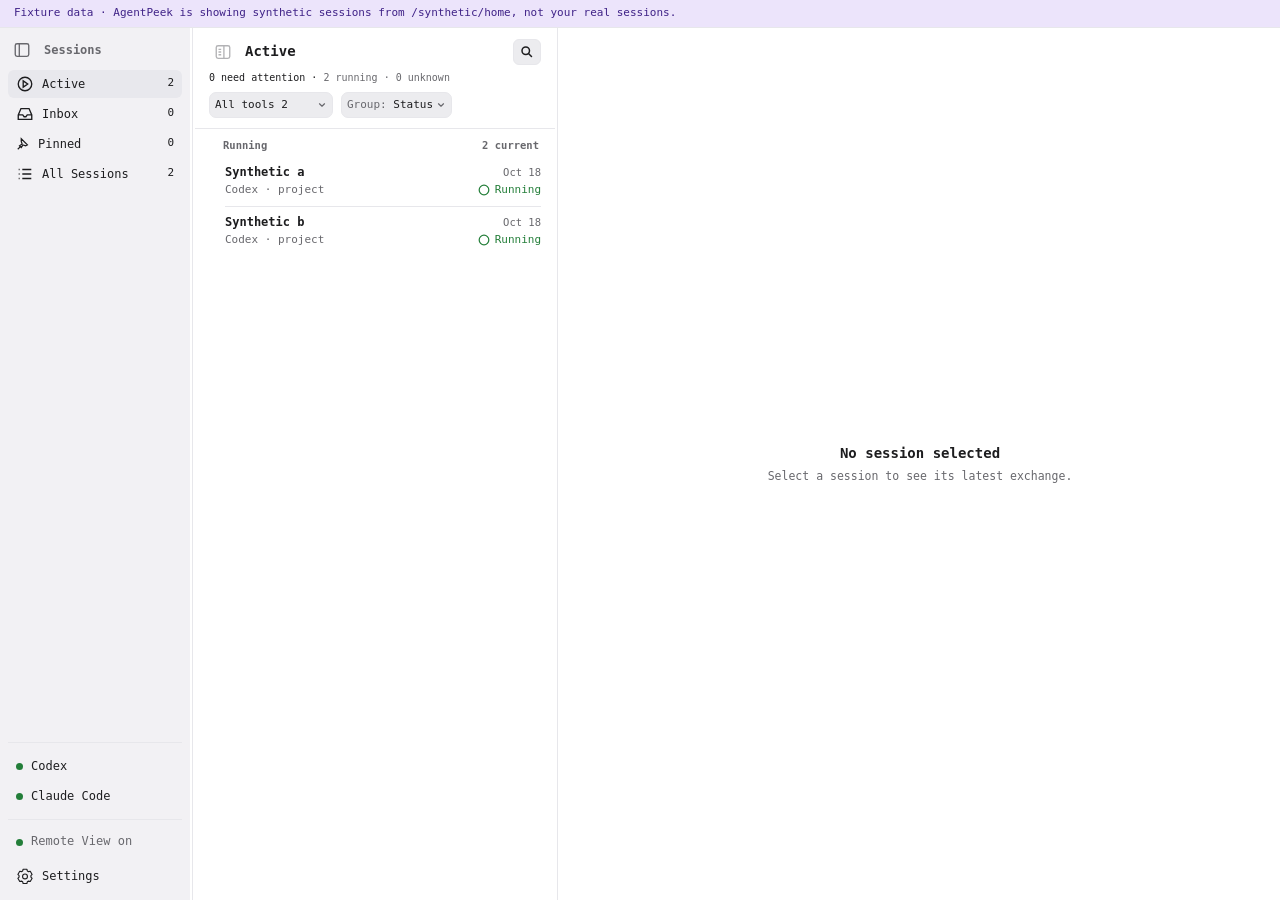
Remote View alias in the session detail › shows nothing for a session the main process does not share
Click the option "Synthetic a Oct 18 Codex · project Running".
click(265, 172)  # box x1=201 y1=156 x2=549 y2=206
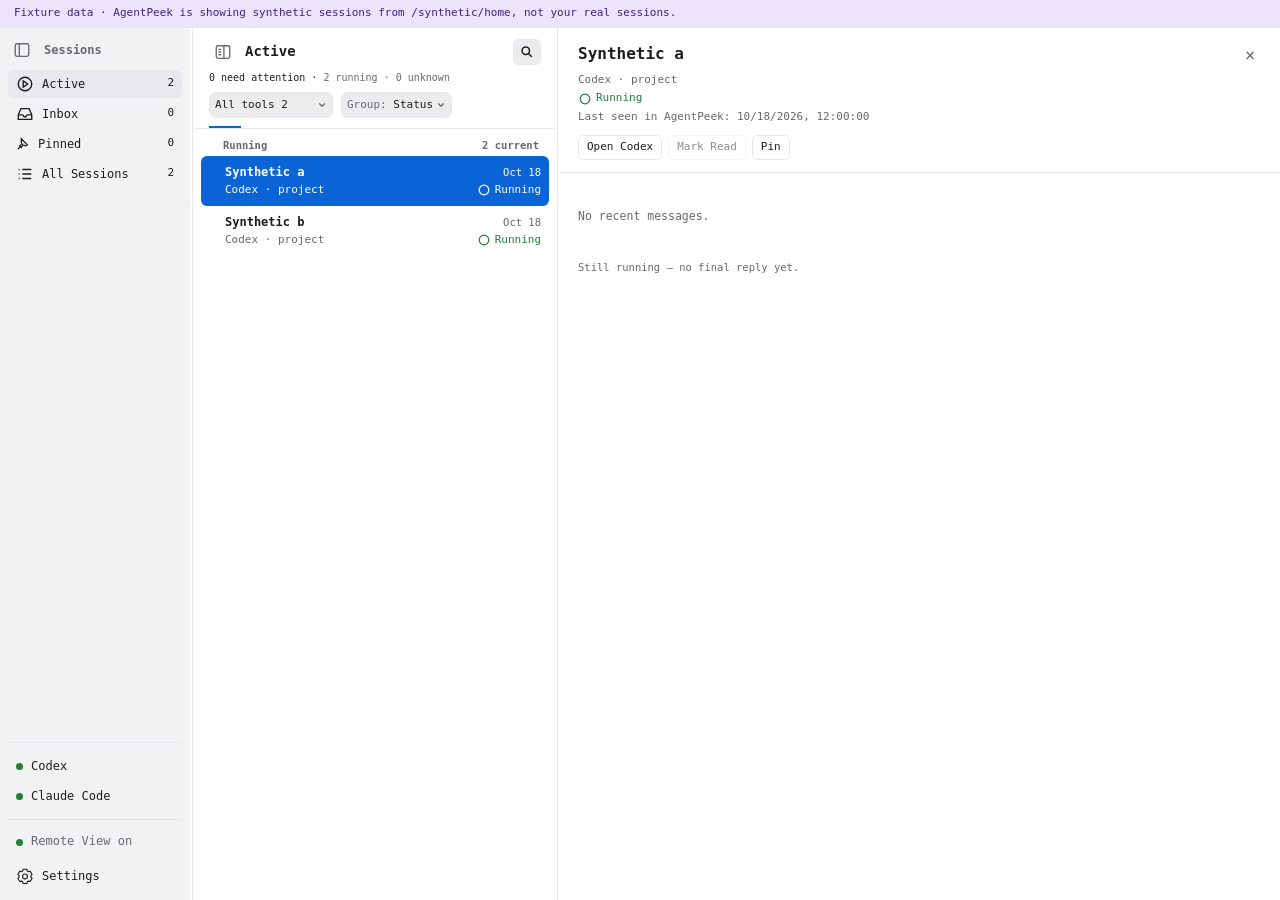
expect the text "No recent messages." is shown: met, box x1=578 y1=208 x2=710 y2=222
